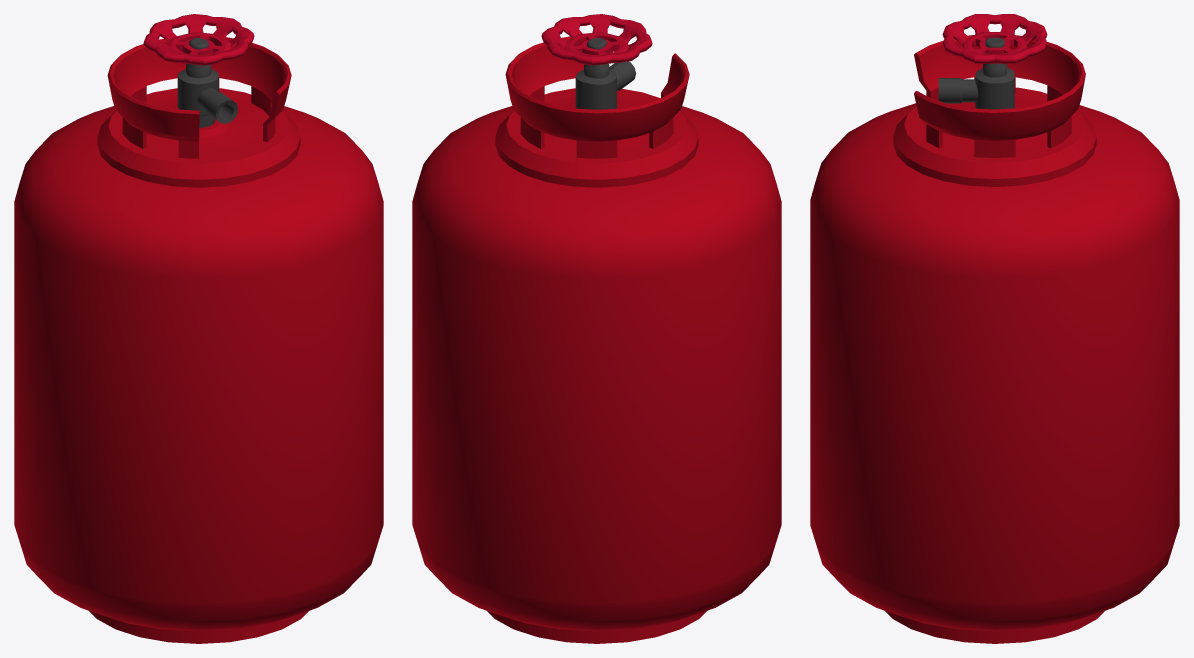
The model's file is FuelTank.fbx.
The picture shows the model from 3 angles, left to right: view 1: azimuth 30°, elevation 25°; view 2: azimuth 150°, elevation 25°; view 3: azimuth 270°, elevation 25°; orthographic projection.
Visible parts, largest first — view 1: Cylinder, Cylinder.001; view 2: Cylinder, Cylinder.001; view 3: Cylinder, Cylinder.001.
Part boxes in pixels (box(x1,y1,x2,y2)): Cylinder: box(14, 37, 383, 643); Cylinder.001: box(143, 14, 254, 127); Cylinder: box(412, 36, 781, 643); Cylinder.001: box(541, 14, 652, 109); Cylinder: box(810, 35, 1179, 643); Cylinder.001: box(938, 14, 1047, 109).
Bounding box in the file's own units: 200 × 333 × 200.
